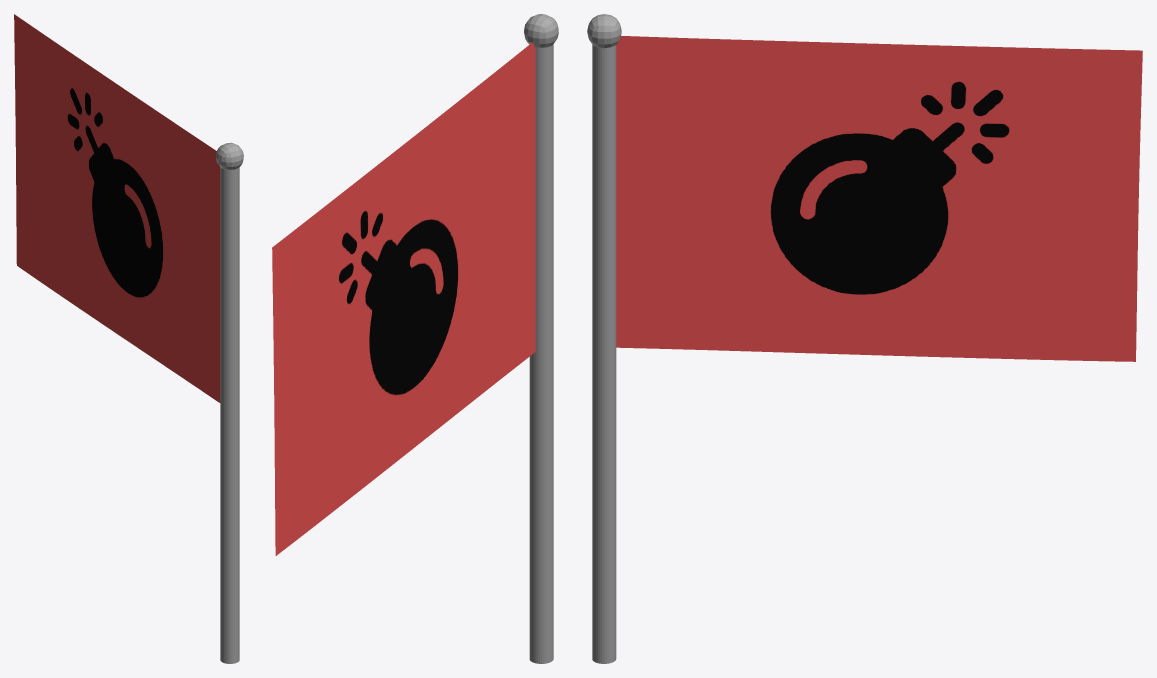
File: flag.fbx
3 renders of one model, left to right at view 1: azimuth 30°, elevation 25°; view 2: azimuth 150°, elevation 25°; view 3: azimuth 270°, elevation 25°, orthographic. The views are drawn at different scales.
Parts seen in each view (by area): view 1: Plane, Cylinder, Cube; view 2: Plane, Cylinder, Cube; view 3: Plane, Cylinder, Cube.
Part boxes in pixels (x1,y1,x2,y2): Plane: [14, 14, 220, 402]; Cylinder: [220, 167, 239, 663]; Cube: [216, 142, 243, 169]; Plane: [272, 42, 535, 555]; Cylinder: [529, 44, 553, 663]; Cube: [524, 14, 558, 47]; Plane: [616, 35, 1142, 361]; Cylinder: [592, 45, 616, 663]; Cube: [587, 14, 621, 48].
Size of the model in its own units: 20.15 by 412 by 323.
Materials: 2 (1 with a texture image).
